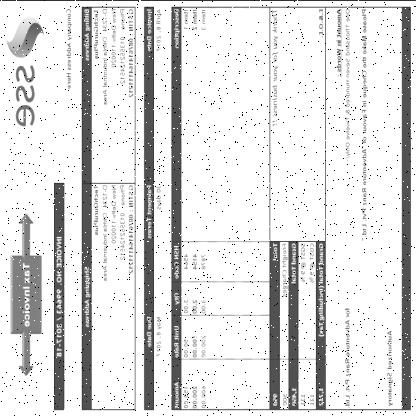Paragraph: (270, 240, 326, 409), (91, 181, 135, 284), (91, 6, 135, 108), (334, 6, 352, 162), (360, 6, 369, 242), (271, 6, 280, 126), (146, 183, 163, 238), (344, 306, 352, 408), (56, 235, 62, 358), (146, 6, 162, 52), (146, 314, 162, 356), (22, 260, 31, 328), (386, 328, 393, 406), (83, 264, 91, 328), (66, 7, 72, 89), (83, 7, 91, 61), (318, 6, 324, 38)
Table: (172, 6, 208, 410)
